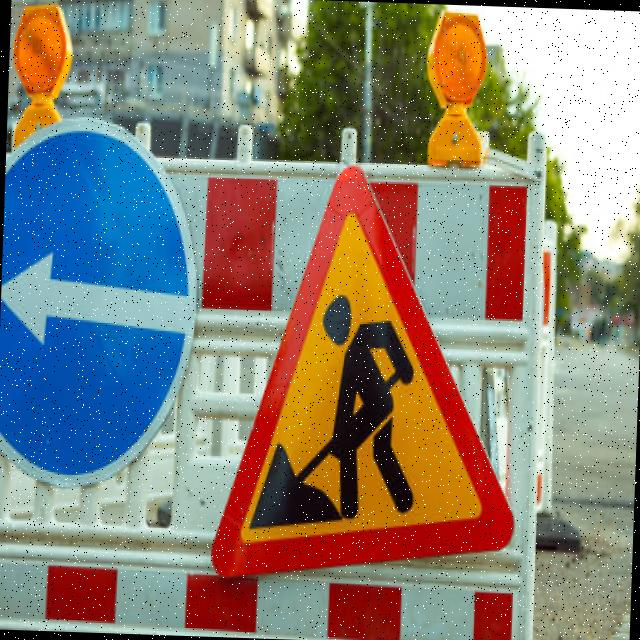compulsory_keep_right: (0, 98, 207, 492)
road_work: (206, 167, 526, 596)
